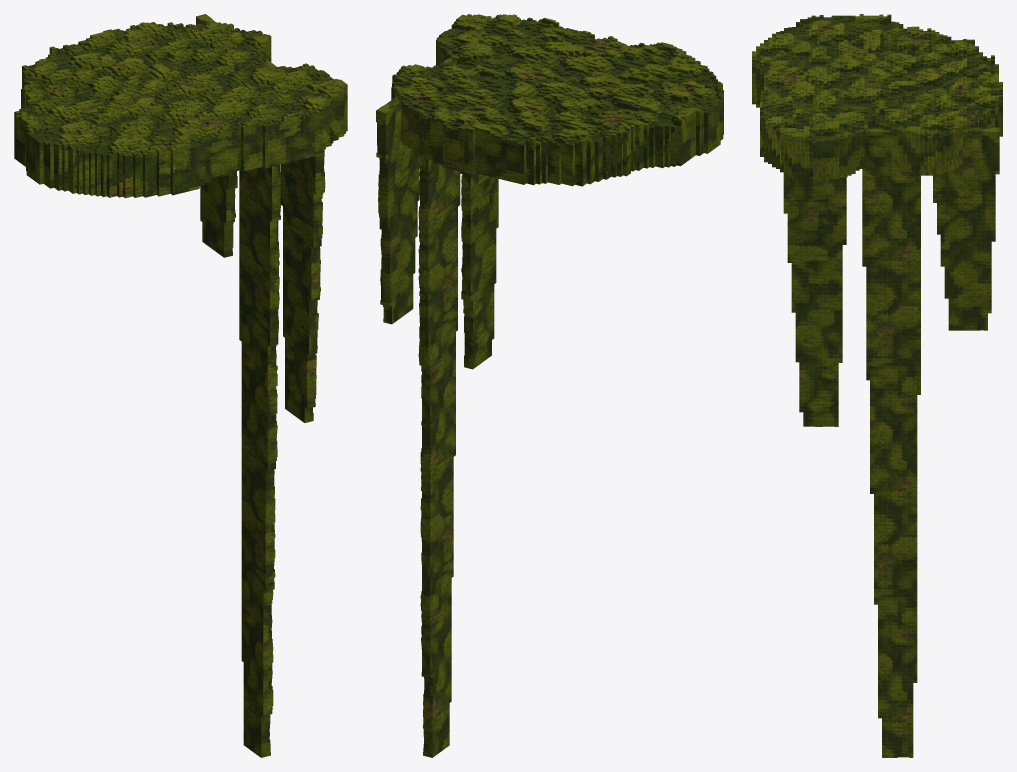
The model's file is SM_Blender_MossFringe.glb.
3 renders of one model, left to right at view 1: azimuth 30°, elevation 25°; view 2: azimuth 150°, elevation 25°; view 3: azimuth 270°, elevation 25°, orthographic. The views are drawn at different scales.
Parts seen in each view (by area): view 1: SM_Blender_MossFringe; view 2: SM_Blender_MossFringe; view 3: SM_Blender_MossFringe.
Boxes of the visible parts, left/top/right/bottom form: SM_Blender_MossFringe: left=14, top=14, right=347, bottom=757; SM_Blender_MossFringe: left=376, top=14, right=723, bottom=757; SM_Blender_MossFringe: left=752, top=14, right=1002, bottom=757.
Size of the model in its own units: 0.493 by 1.16 by 0.4154.
1 material, 1 textured.
